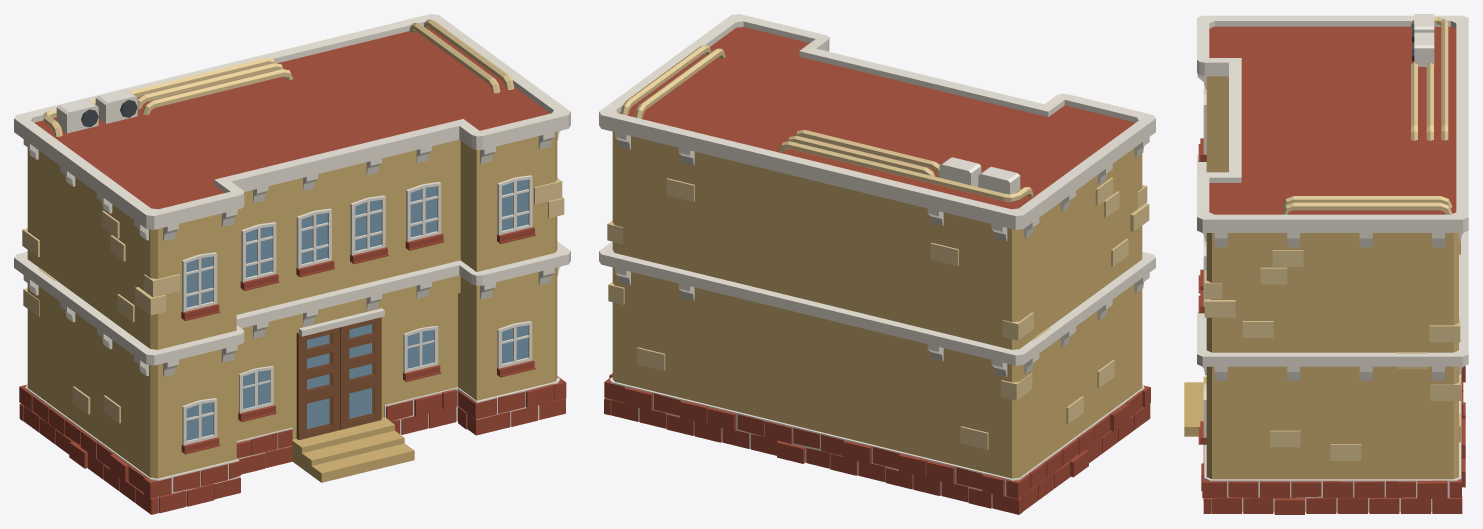
File: q_2Story_Wide.obj
The picture shows the model from 3 angles, left to right: view 1: azimuth 30°, elevation 25°; view 2: azimuth 150°, elevation 25°; view 3: azimuth 270°, elevation 25°; orthographic projection.
Parts seen in each view (by area): view 1: 2Story_Wide_Cube.032; view 2: 2Story_Wide_Cube.032; view 3: 2Story_Wide_Cube.032.
Part boxes in pixels (left/top/right/bottom): 2Story_Wide_Cube.032: left=14, top=14, right=570, bottom=514; 2Story_Wide_Cube.032: left=599, top=14, right=1155, bottom=514; 2Story_Wide_Cube.032: left=1184, top=14, right=1468, bottom=514.
Size of the model in its own units: 3.83 by 2.75 by 2.26.
Materials: 1 (1 with a texture image).
